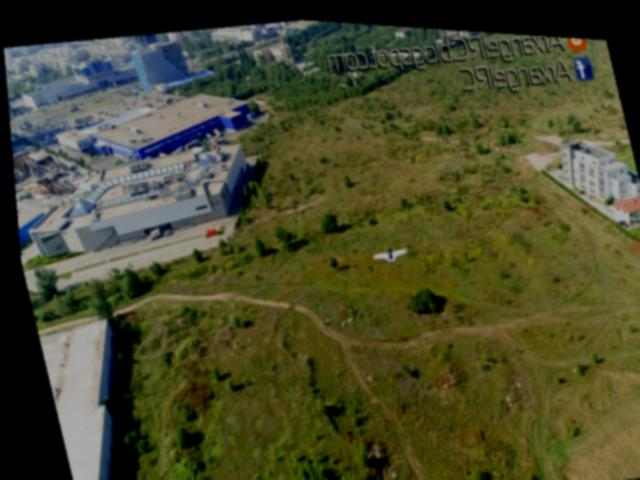plane: (367, 240, 406, 266)
